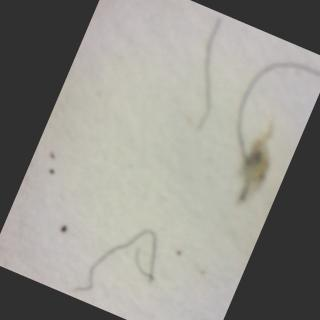Microplastic: (197, 30, 320, 219), (61, 198, 178, 320), (157, 7, 248, 145)
